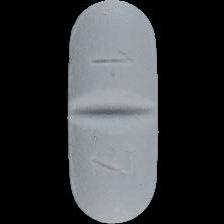68788-6429: (0, 0, 224, 224)
